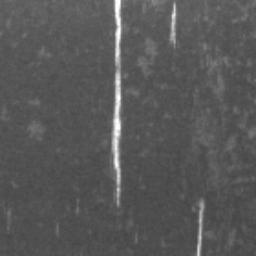Bright scratch: (111, 0, 122, 207), (197, 204, 204, 256), (170, 6, 177, 44)
